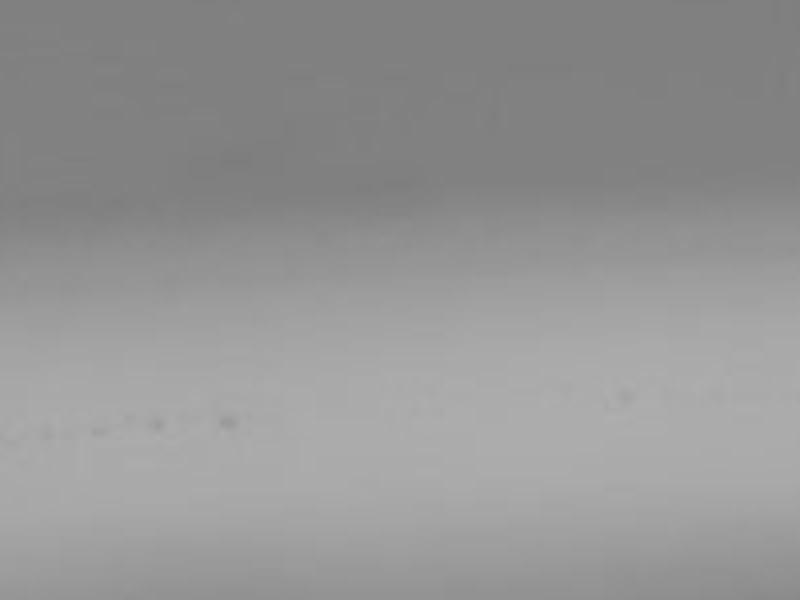defect: (615, 380, 640, 403), (215, 413, 237, 433), (37, 421, 55, 439), (148, 413, 163, 432), (90, 423, 109, 436), (121, 409, 137, 423)
